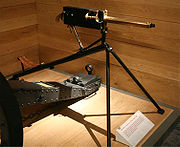rifle: (54, 5, 163, 130)
